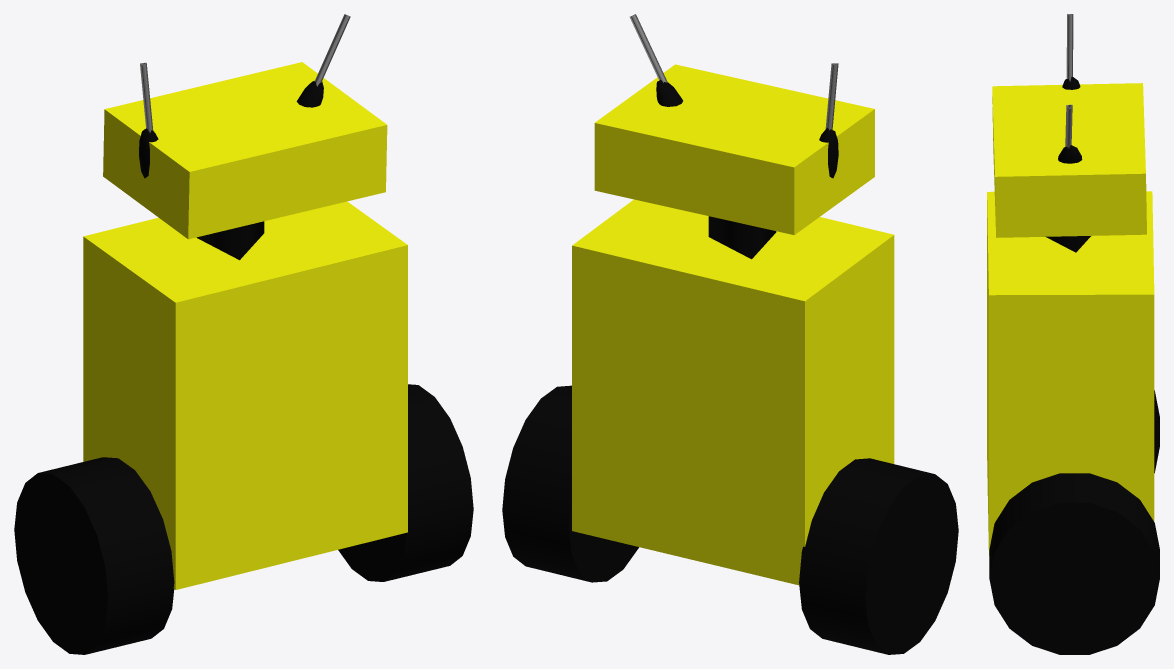
The model's file is body.FBX.
3 views of the same model, side by side, from view 1: azimuth 30°, elevation 25°; view 2: azimuth 150°, elevation 25°; view 3: azimuth 270°, elevation 25° (orthographic). The views are drawn at different scales.
Parts seen in each view (by area): view 1: Body, head, Cylinder002, Cylinder003, neck; view 2: Body, head, Cylinder002, Cylinder003, neck; view 3: Body, Cylinder003, head, Tube005, neck, Cylinder002, Sphere002, Tube004.
Boxes of the visible parts, x1,y1,x2,y2 form: Body: (83, 201, 407, 589); head: (103, 62, 387, 239); Cylinder002: (14, 457, 174, 654); Cylinder003: (338, 384, 473, 581); neck: (196, 221, 264, 260); Body: (572, 199, 894, 585); head: (594, 64, 874, 235); Cylinder002: (799, 458, 958, 654); Cylinder003: (502, 385, 638, 582); neck: (708, 216, 776, 259); Body: (987, 191, 1154, 555); Cylinder003: (989, 473, 1159, 654); head: (992, 83, 1146, 237); Tube005: (1066, 14, 1073, 81); neck: (1045, 236, 1090, 252); Cylinder002: (1154, 390, 1159, 473); Sphere002: (1058, 145, 1082, 163); Tube004: (1065, 104, 1072, 148).
Size of the model in its own units: 36.4 by 53.93 by 16.44.
